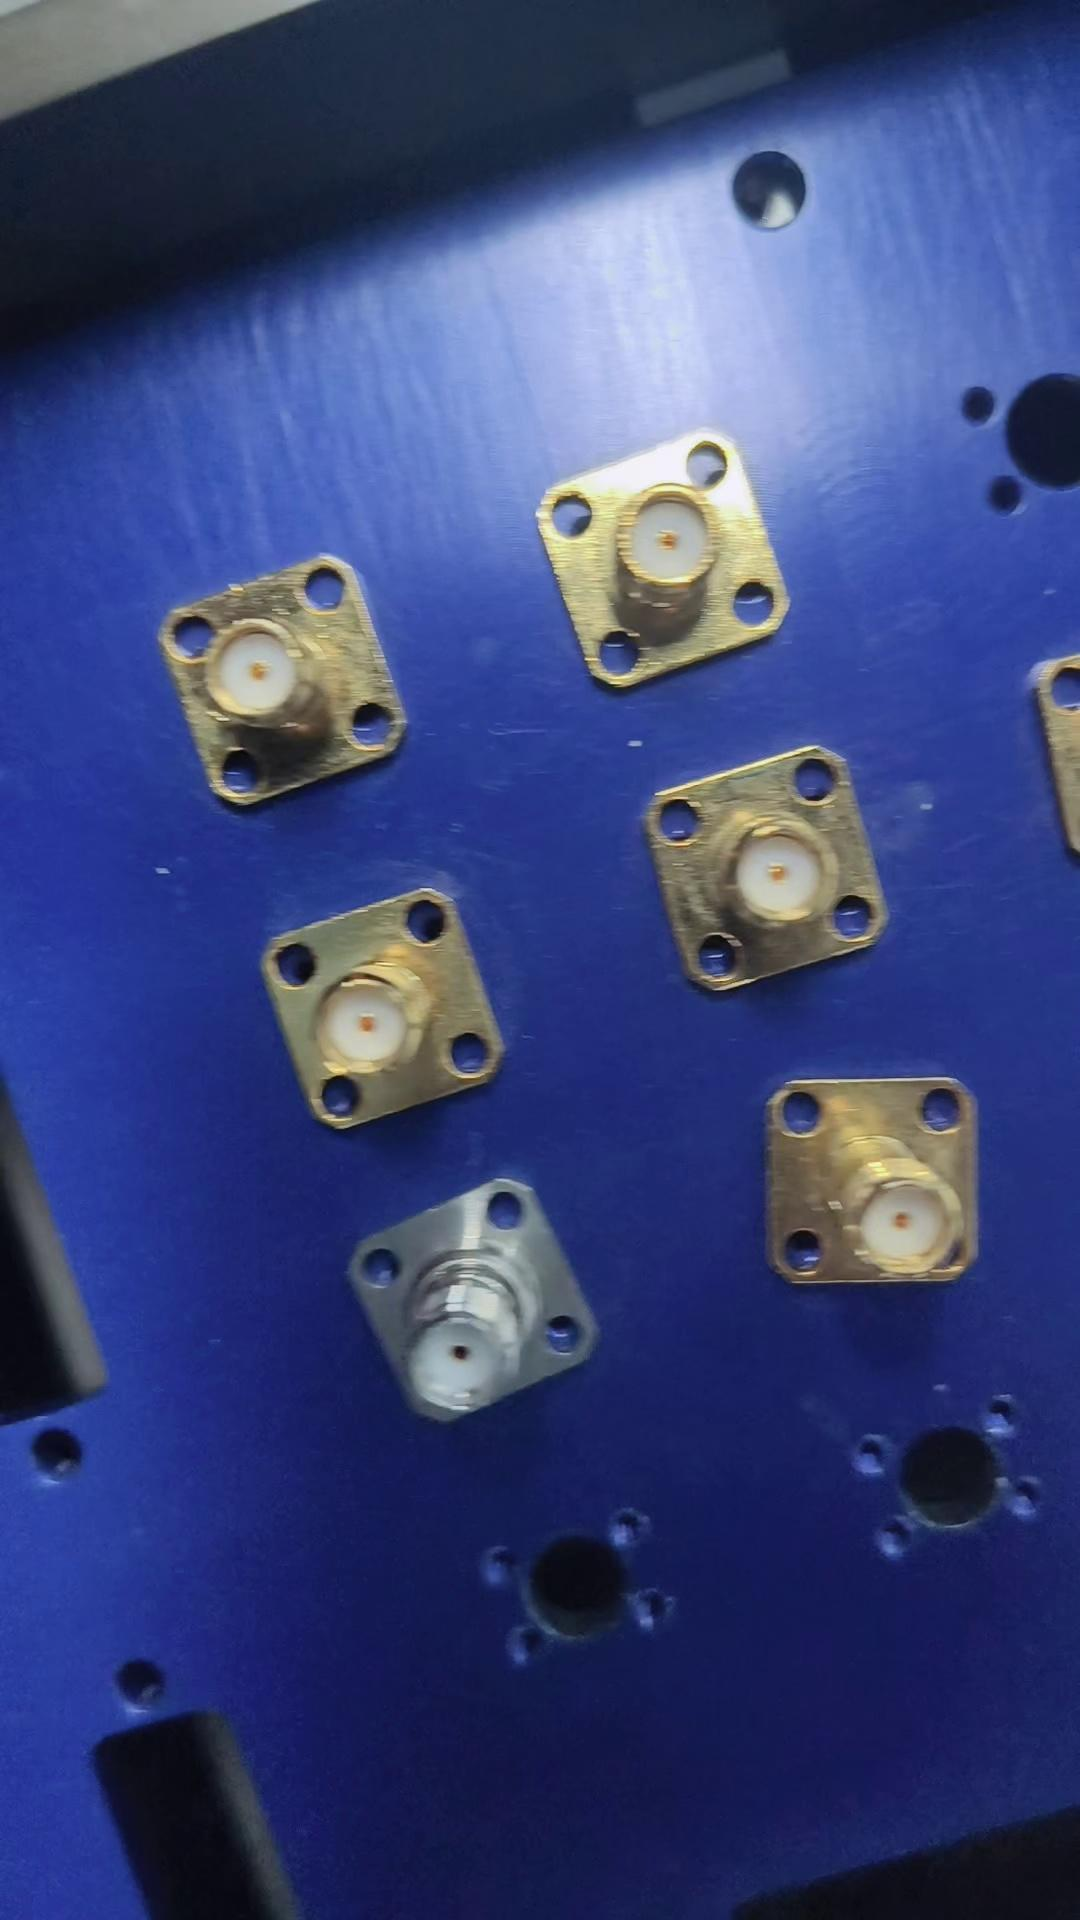SMA: (531, 426, 795, 690), (152, 550, 409, 806), (351, 1178, 605, 1429), (647, 746, 893, 998), (266, 887, 513, 1131), (765, 1069, 986, 1292)
